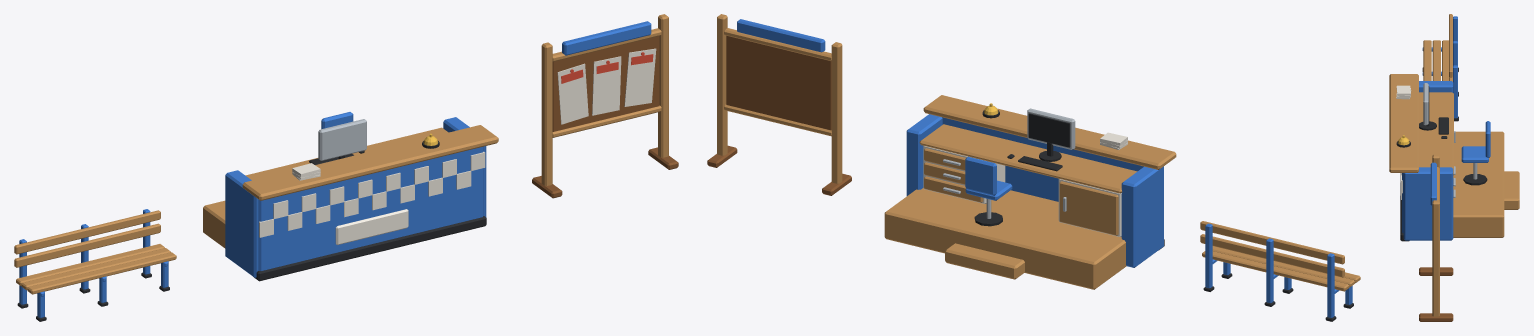
The model's file is police-front-desk.glb.
3 views of the same model, side by side, from view 1: azimuth 30°, elevation 25°; view 2: azimuth 150°, elevation 25°; view 3: azimuth 270°, elevation 25° (orthographic). The views are drawn at different scales.
Visible parts, largest first — view 1: Counter_Front, Counter_Ledge, Cork_Panel, Counter_Side_L, Kickplate, Post_-1, Monitor_Frame, Back_Slat_1, Back_Slat_2, Sign_Blank, Post_1, Poster_2 (+11 smaller); view 2: Officer_Platform, Cork_Panel, Officer_Worktop, Counter_Ledge, Counter_Side_L, Counter_Front, Door_Cabinet, Platform_Step, Post_-1, Counter_Side_R, Post_1, Back_Slat_2 (+17 smaller); view 3: Officer_Platform, Counter_Side_R, Counter_Ledge, Officer_Worktop, Post_1, Platform_Step, Chair_Seat, Counter_Side_L, Seat_Slat_2, Seat_Slat_1, Foot_1, Seat_Slat_3 (+15 smaller).
Part boxes in pixels (x1,y1,x2,y2): Counter_Front: (258, 146, 483, 270); Counter_Ledge: (242, 125, 498, 200); Cork_Panel: (552, 36, 659, 131); Counter_Side_L: (225, 170, 258, 277); Kickplate: (254, 216, 486, 281); Post_-1: (541, 42, 552, 185); Monitor_Frame: (318, 119, 366, 160); Back_Slat_1: (14, 223, 160, 267); Back_Slat_2: (14, 210, 160, 254); Sign_Blank: (335, 209, 408, 244); Post_1: (658, 14, 668, 157); Poster_2: (592, 56, 621, 115); Officer_Platform: (884, 188, 1126, 289); Cork_Panel: (726, 35, 831, 130); Officer_Worktop: (919, 124, 1137, 193); Counter_Ledge: (923, 95, 1176, 169); Counter_Side_L: (1121, 166, 1163, 267); Counter_Front: (942, 117, 1143, 201); Door_Cabinet: (1059, 181, 1118, 235); Platform_Step: (945, 243, 1024, 279); Post_-1: (831, 42, 842, 183); Counter_Side_R: (906, 114, 942, 195); Post_1: (717, 14, 727, 155); Back_Slat_2: (1200, 221, 1344, 264); Officer_Platform: (1453, 131, 1504, 237); Counter_Side_R: (1403, 167, 1453, 240); Counter_Ledge: (1389, 74, 1418, 172); Officer_Worktop: (1419, 92, 1453, 174); Post_1: (1432, 200, 1439, 316); Platform_Step: (1504, 171, 1519, 209); Chair_Seat: (1461, 146, 1488, 162); Counter_Side_L: (1419, 81, 1453, 92); Seat_Slat_2: (1432, 40, 1440, 80); Seat_Slat_1: (1423, 40, 1431, 80); Foot_1: (1419, 313, 1453, 321); Seat_Slat_3: (1442, 40, 1448, 80).
Bounding box in the file's own units: 35.5 × 7.7 × 7.65.
